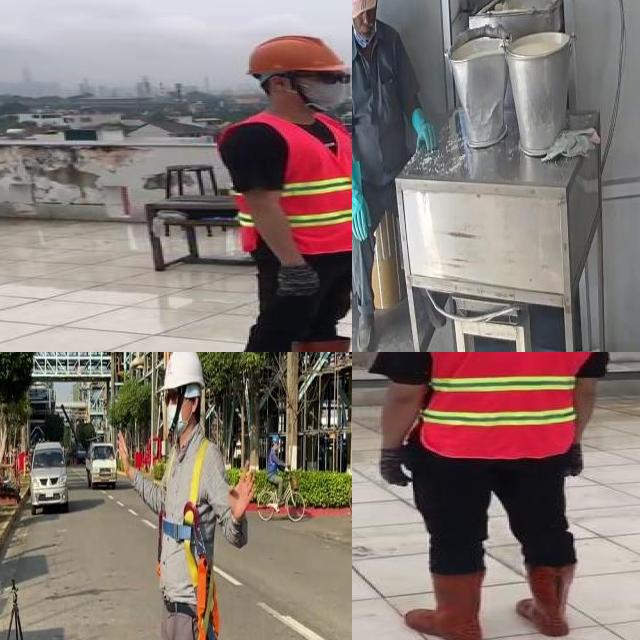Harness: (162, 439, 220, 640)
boots: (405, 568, 491, 640), (511, 561, 585, 637)
face_mask: (298, 69, 349, 107)
face_nomask: (352, 2, 378, 40)
glasses: (308, 70, 352, 87)
hand_glove: (272, 265, 329, 301), (378, 442, 420, 489), (352, 192, 374, 245), (409, 120, 441, 156)
head_helmet: (242, 34, 348, 76)
head_nohelmet: (352, 0, 384, 17)
person: (362, 352, 612, 640), (209, 29, 352, 352), (352, 0, 445, 352)
shoes: (352, 310, 378, 352)
vest: (216, 111, 352, 254), (414, 352, 594, 457)
